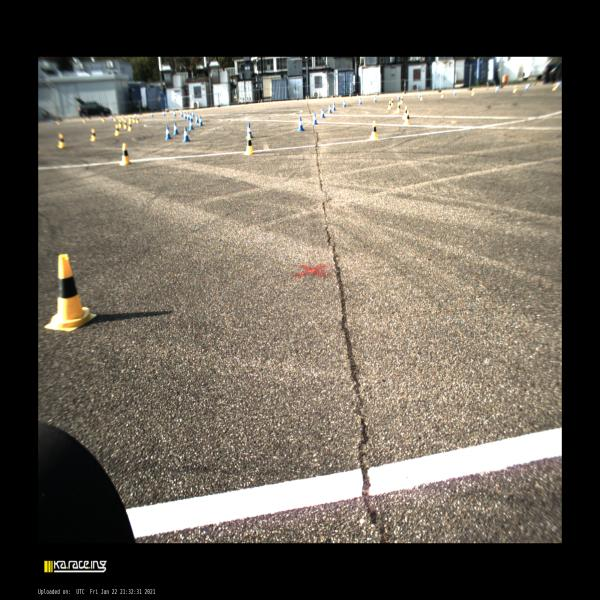blue_cone: (182, 126, 191, 142), (297, 117, 305, 131), (165, 125, 172, 140), (311, 113, 318, 125), (173, 122, 179, 135), (188, 120, 194, 130), (198, 116, 204, 126), (327, 104, 332, 114), (247, 122, 251, 134), (320, 108, 324, 118), (195, 114, 199, 124), (333, 102, 336, 111), (343, 100, 346, 107), (374, 96, 377, 103), (418, 91, 421, 98), (359, 97, 362, 104), (397, 94, 400, 100), (180, 111, 183, 117), (184, 112, 186, 119), (187, 113, 189, 120), (192, 110, 194, 117), (454, 89, 456, 95)
yellow_cone: (44, 253, 97, 332), (118, 143, 132, 165), (243, 134, 254, 156), (370, 120, 379, 140), (57, 133, 66, 149), (90, 128, 97, 142), (404, 110, 410, 126), (115, 124, 120, 136), (403, 106, 407, 120), (396, 102, 400, 113), (399, 95, 403, 104), (128, 122, 132, 131), (123, 120, 127, 128), (388, 100, 391, 110), (136, 116, 139, 123), (391, 99, 393, 106)
